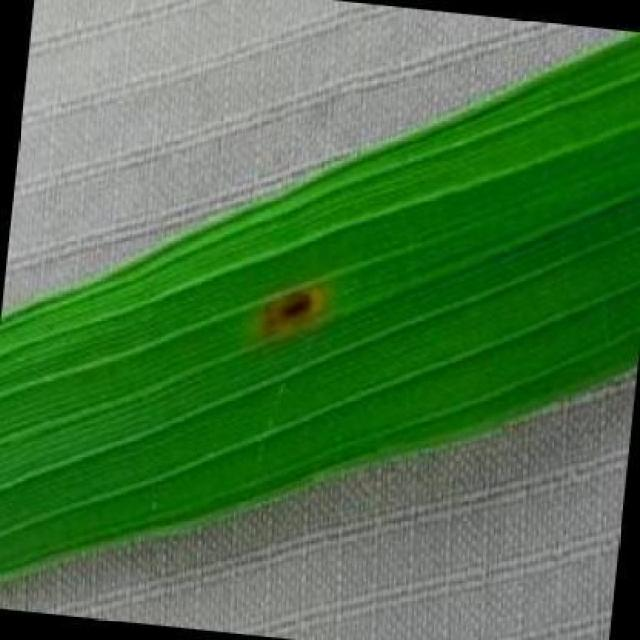Leaf_Blast: (230, 262, 338, 360)
